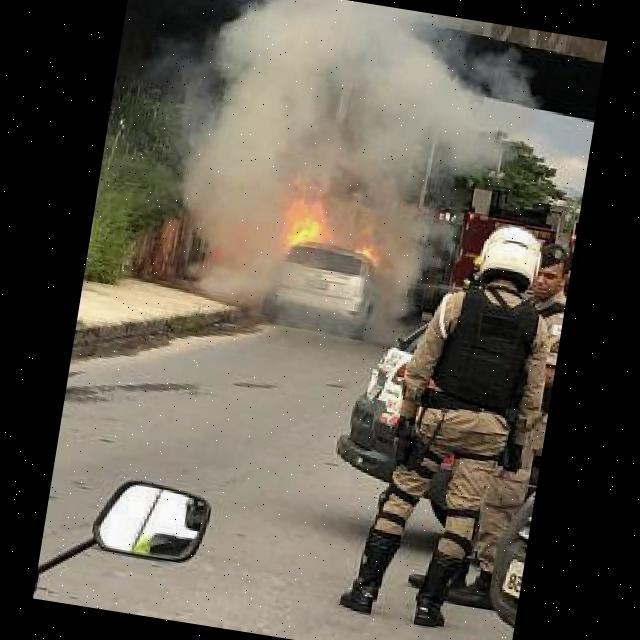Fire: (281, 174, 336, 252), (356, 245, 376, 262)
Smoke: (164, 0, 480, 345)
